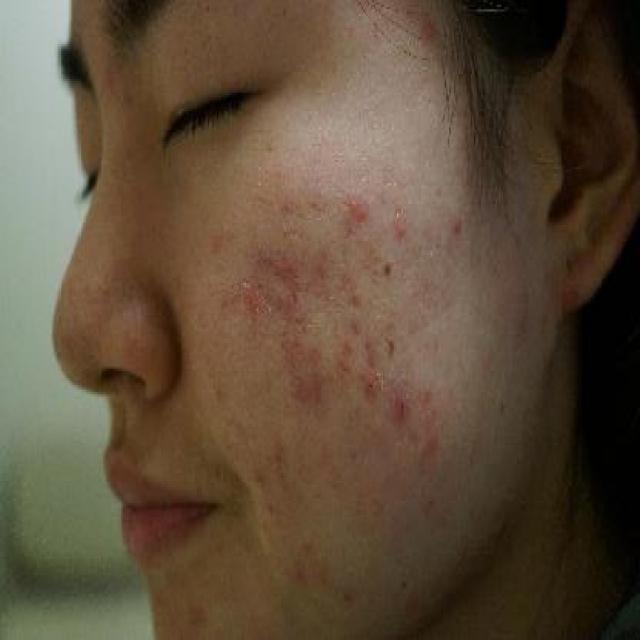dark spot: (271, 336, 334, 420), (269, 427, 302, 508), (271, 290, 314, 348), (254, 244, 308, 285), (340, 190, 377, 241), (238, 278, 271, 327), (206, 218, 239, 264), (308, 246, 335, 297), (272, 181, 300, 222), (334, 332, 355, 385), (251, 462, 271, 496), (343, 288, 365, 313)
papules: (354, 355, 389, 410), (390, 378, 416, 445), (446, 206, 469, 239), (394, 216, 409, 246)
